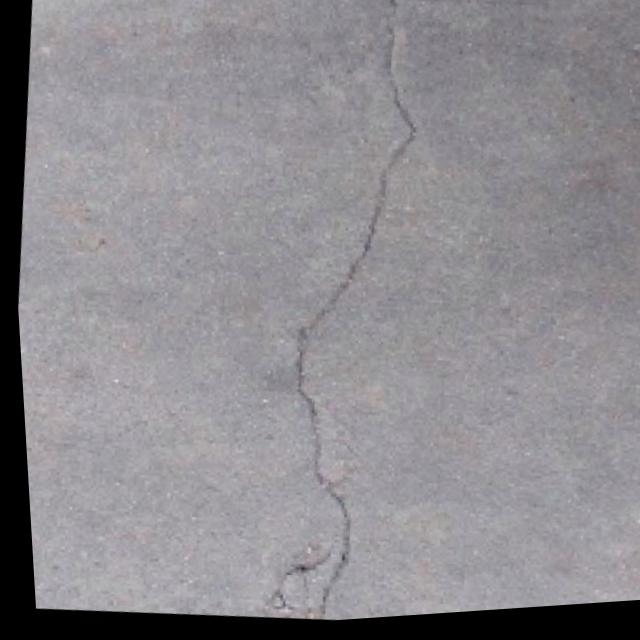Crack: (215, 0, 471, 629)
